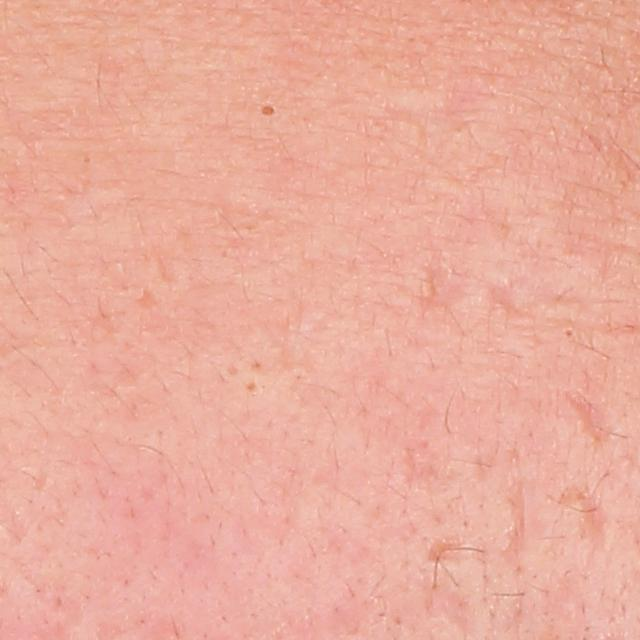atrophic_scar: (481, 449, 532, 556), (414, 248, 489, 310), (559, 479, 614, 556), (404, 434, 456, 500), (565, 388, 618, 451), (418, 586, 476, 639), (422, 537, 489, 567), (155, 243, 182, 285), (138, 287, 161, 310)
comedo: (257, 98, 284, 123), (561, 322, 577, 344)
